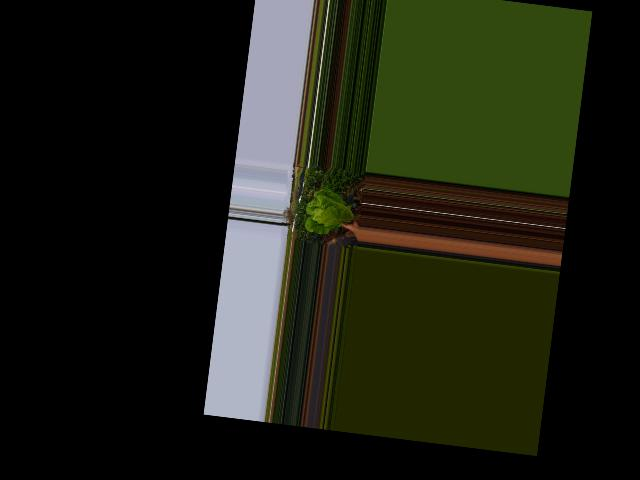lettuce: (302, 185, 360, 240)
